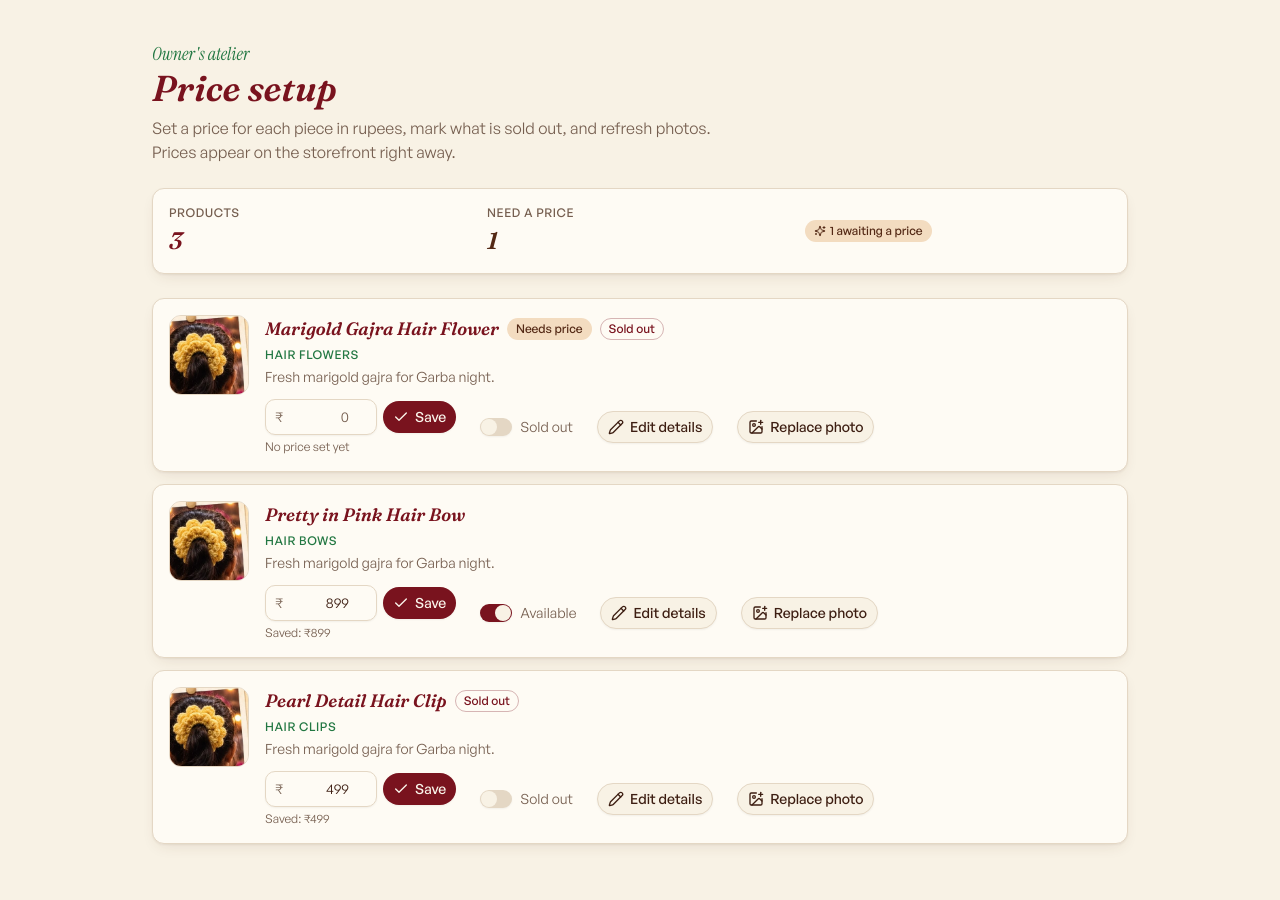
AdminPage › edits a product's name, category, and description
The image size is (1280, 900).
Expected: the list item "Marigold Gajra Hair Flower" is shown, [265,317,499,340]
Click the button "Edit details" in the row of "No price set yet" at point(655, 427), box [597,411,713,443]
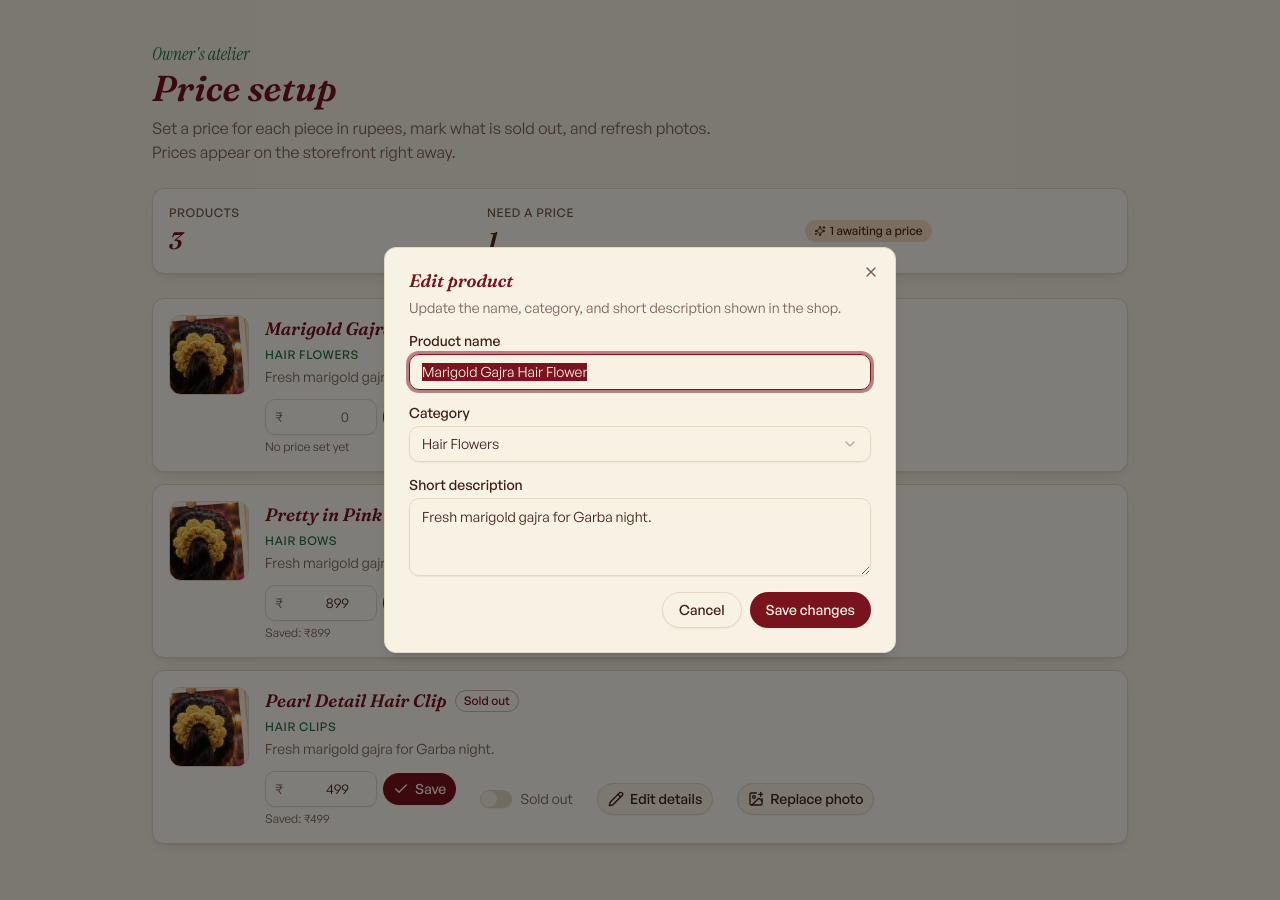
Expected: the field labelled "Product name" holds "Marigold Gajra Hair Flower"
Replace the text in the field labelled "Product name" with "Festive Marigold Gajra" at point(640, 372), box [409,354,871,390]
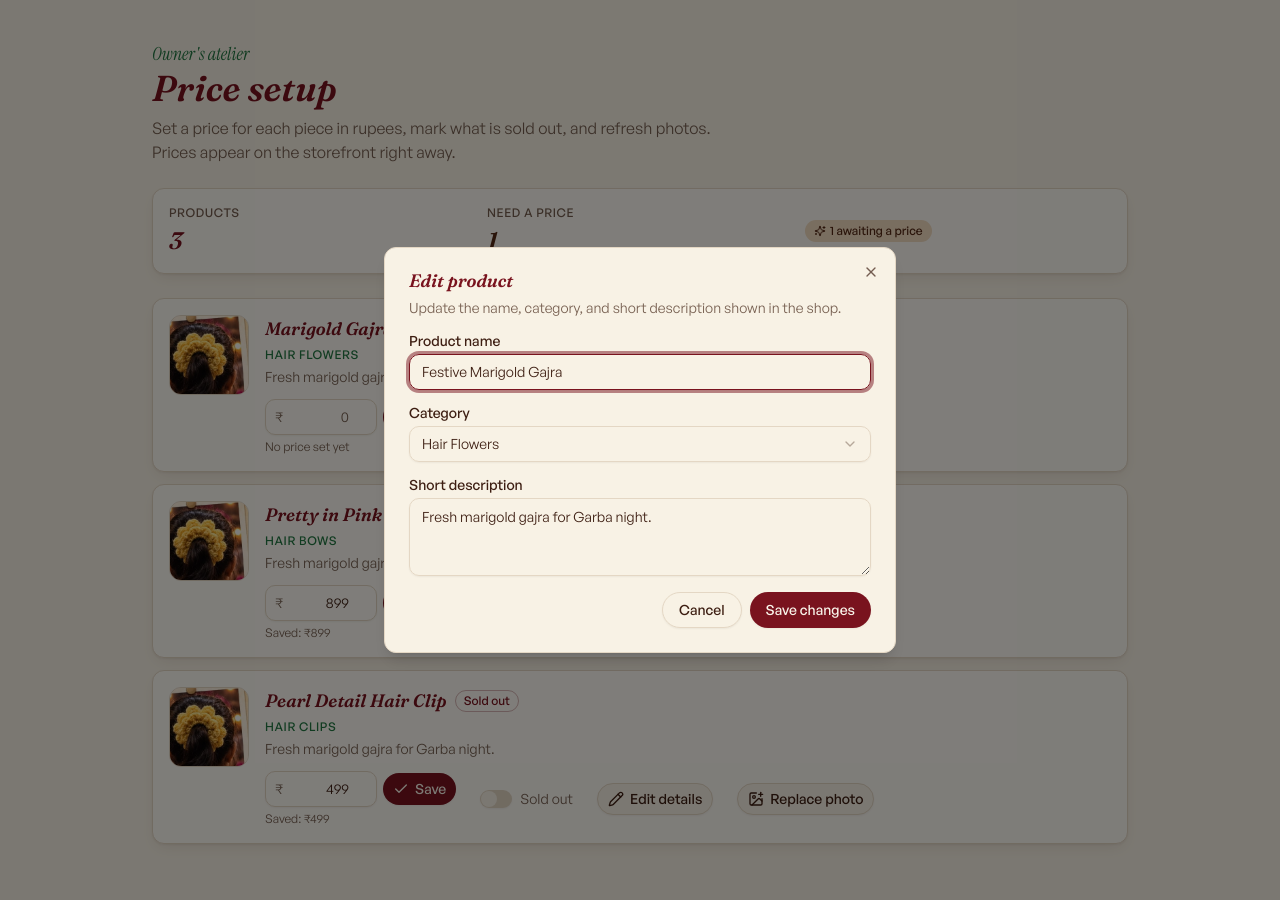
Replace the text in the text box labelled "Short description" with "Bright marigold for Garba night." at point(640, 537), box [409,498,871,576]
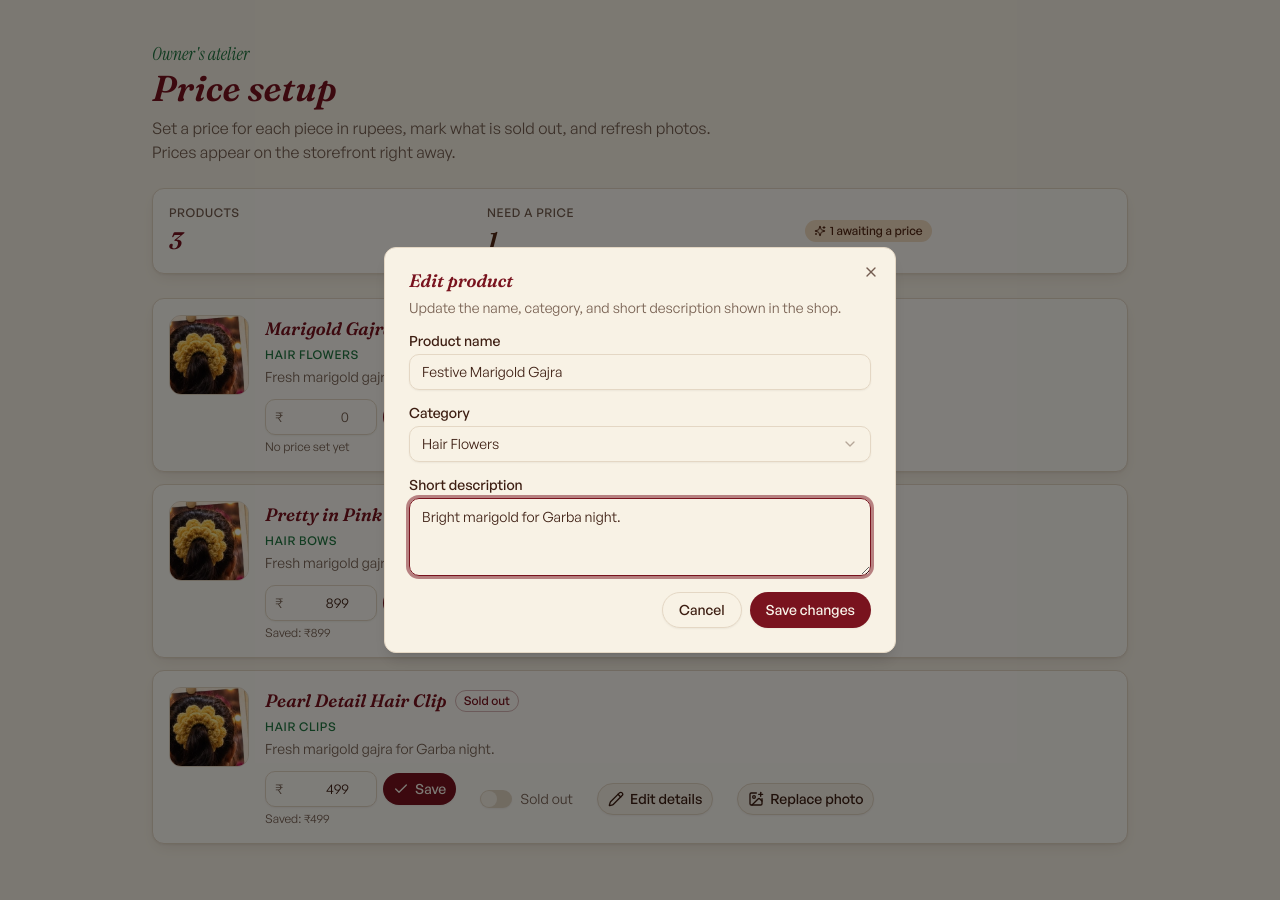
Click the button "Save changes" at point(810, 610), box [750,592,871,628]
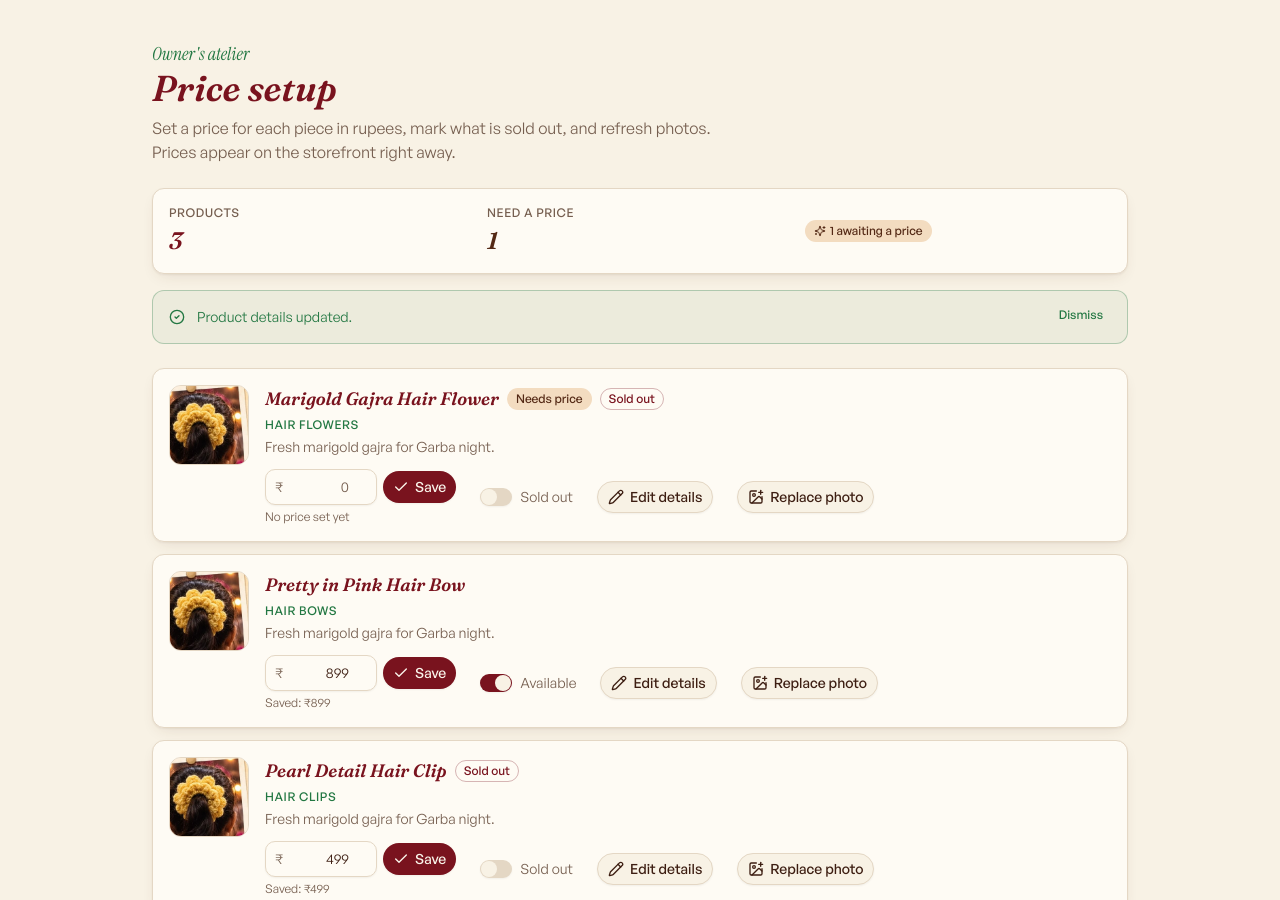
Expected: the text "Product details updated." is shown, [197,308,352,325]
